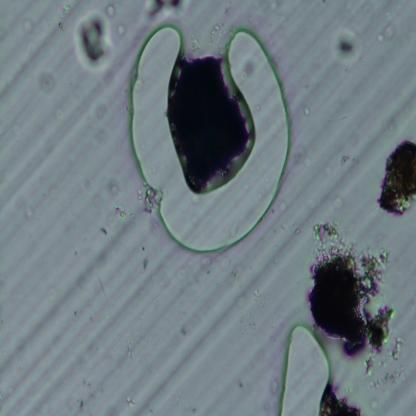Air bubble: (129, 20, 292, 256), (274, 325, 330, 415)
Background material: (310, 218, 392, 351), (375, 137, 416, 220), (76, 10, 116, 73), (69, 243, 110, 297), (364, 334, 404, 388), (102, 191, 136, 228), (323, 384, 360, 414), (35, 65, 65, 99), (140, 1, 193, 19), (246, 268, 268, 310), (332, 31, 361, 59), (290, 143, 316, 170), (77, 374, 91, 414), (378, 14, 398, 41), (55, 4, 71, 29), (104, 178, 125, 196), (332, 189, 344, 214), (138, 254, 151, 274), (338, 148, 352, 166), (123, 392, 134, 409), (115, 23, 125, 38), (106, 6, 116, 19)
Fragment: (167, 51, 250, 192)
